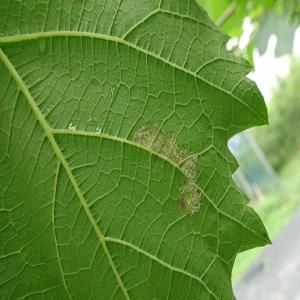Folha: (0, 0, 272, 299)
Fungo: (133, 123, 203, 217), (175, 146, 203, 218), (68, 122, 77, 132), (94, 126, 104, 134)
